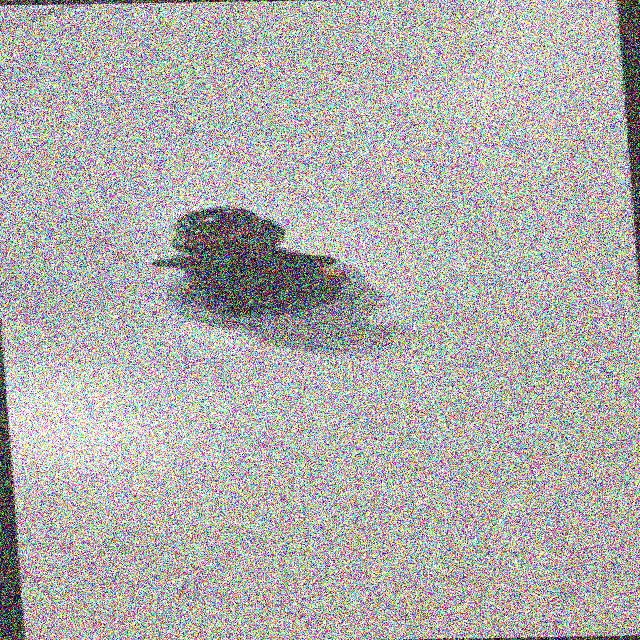Penguin: (148, 200, 373, 330)
